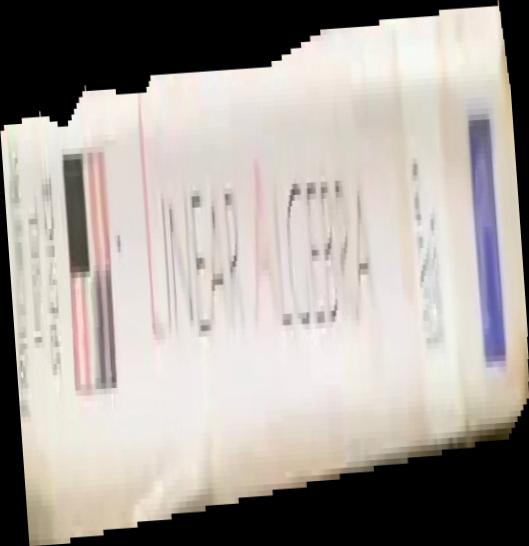flat: (1, 1, 529, 546)
